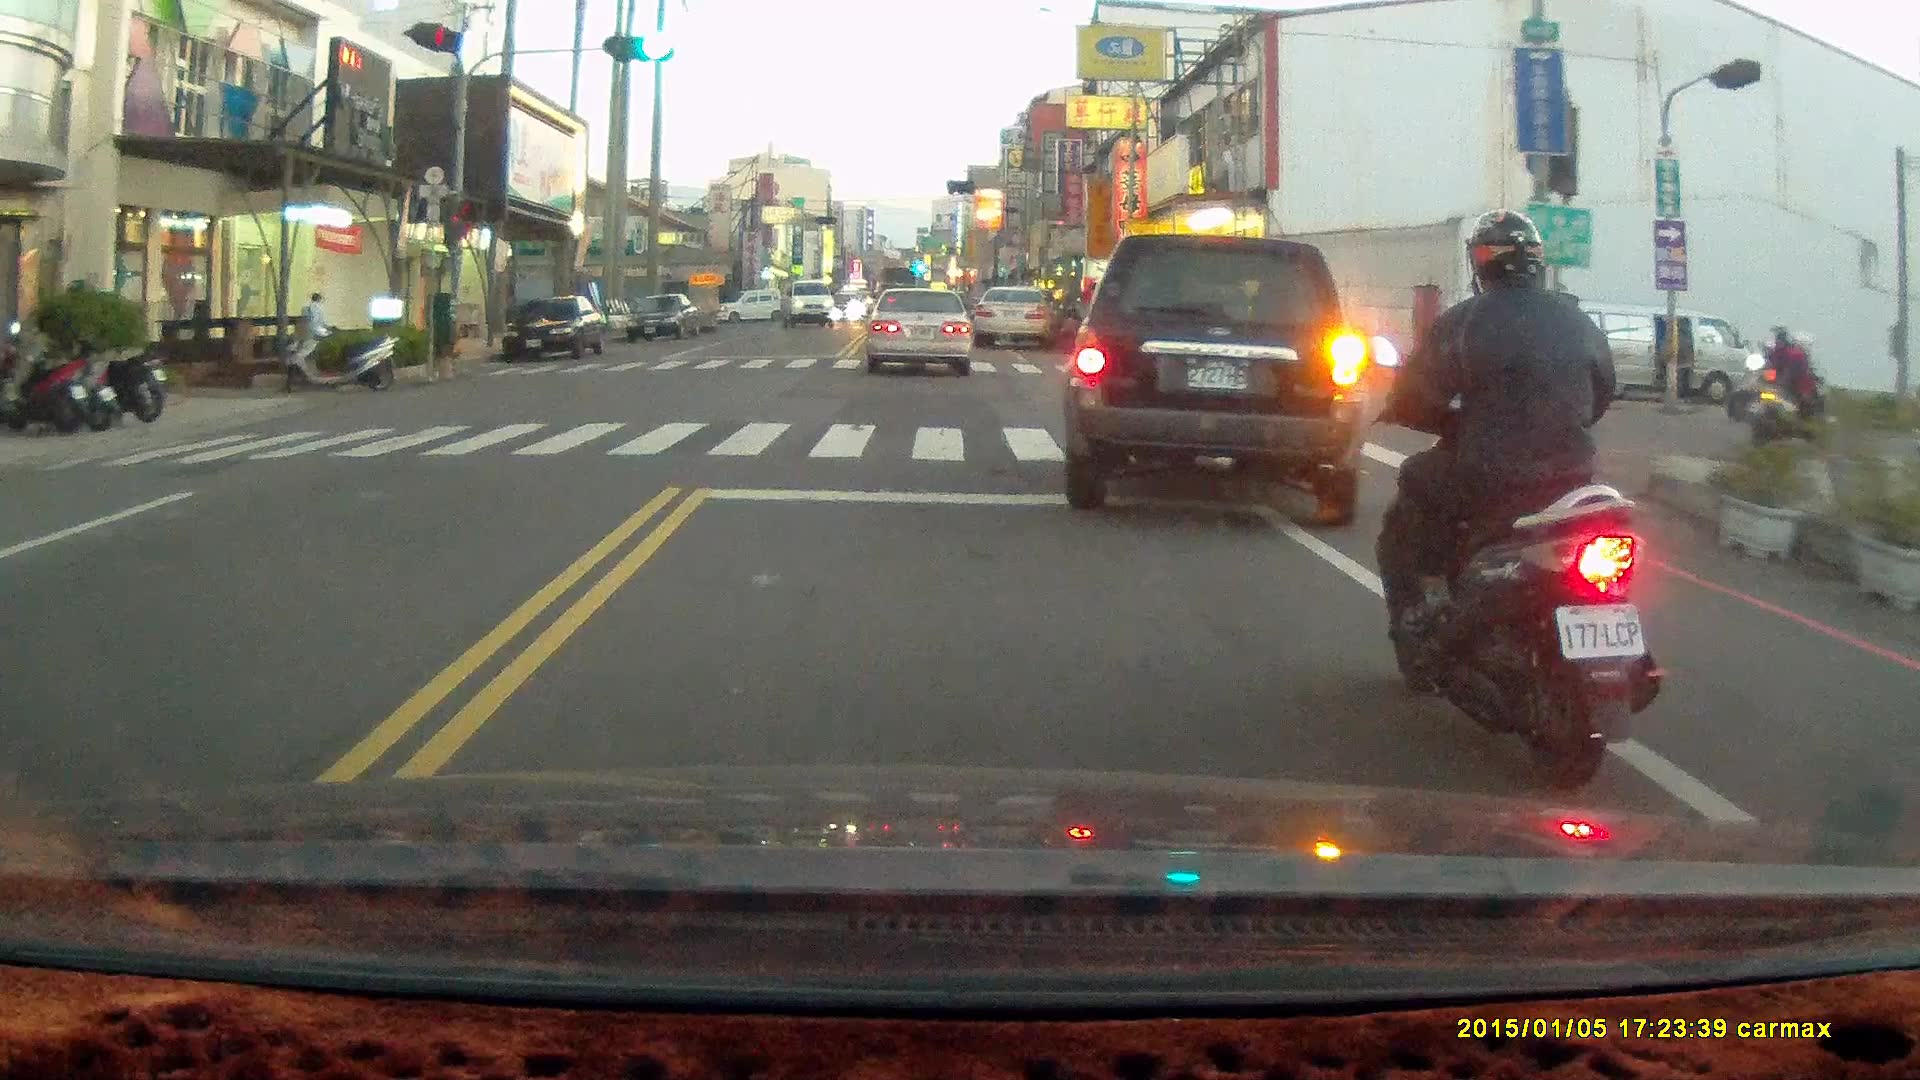pedestrian: (301, 291, 334, 356), (1671, 320, 1694, 399)
rider: (1358, 210, 1663, 793), (1750, 331, 1835, 461), (1728, 323, 1811, 428)
vehicle: (1064, 232, 1370, 528), (1554, 303, 1777, 411), (866, 292, 979, 385), (506, 299, 603, 366), (970, 283, 1058, 358), (628, 296, 705, 348), (781, 280, 839, 334)
